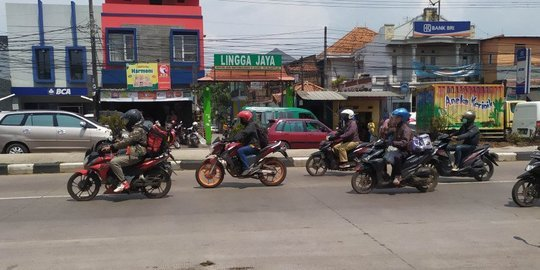motor: (68, 149, 174, 201), (199, 134, 288, 186), (354, 141, 436, 193), (436, 136, 498, 182), (303, 133, 352, 172)
